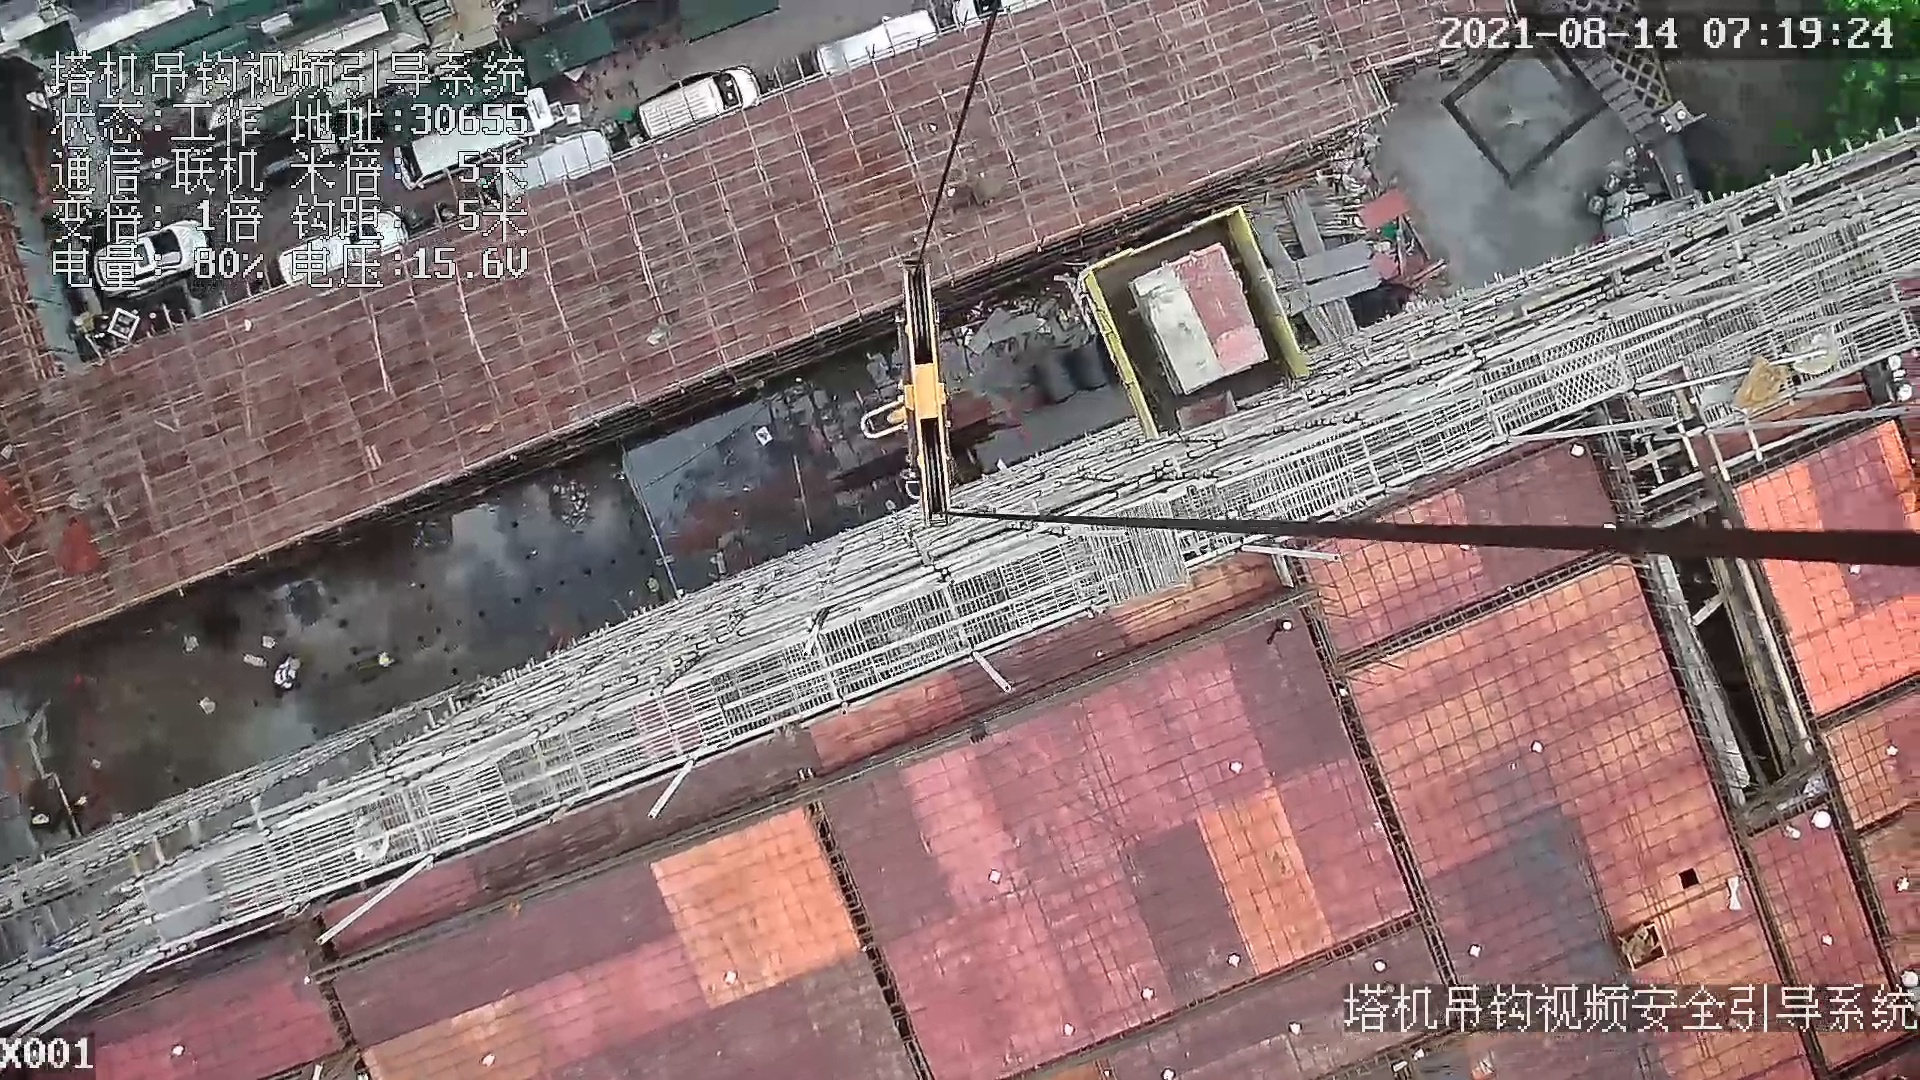hook: (855, 255, 965, 530)
